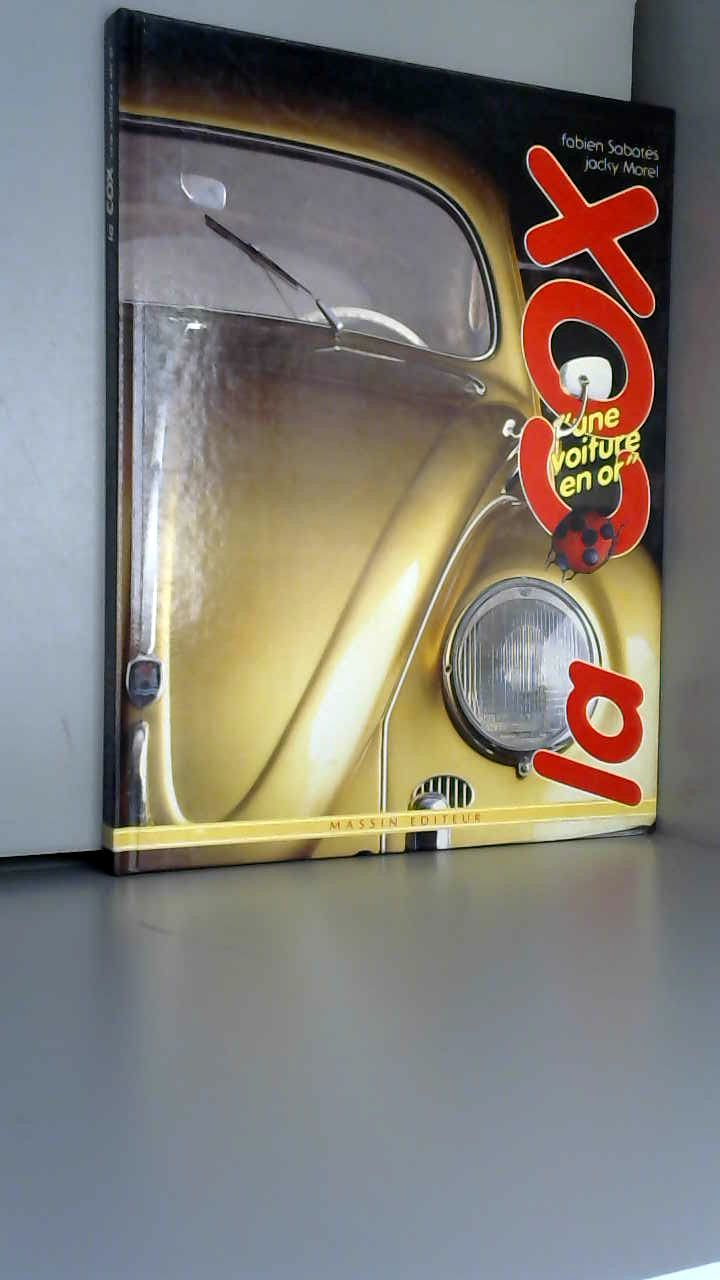book: (80, 0, 707, 908)
